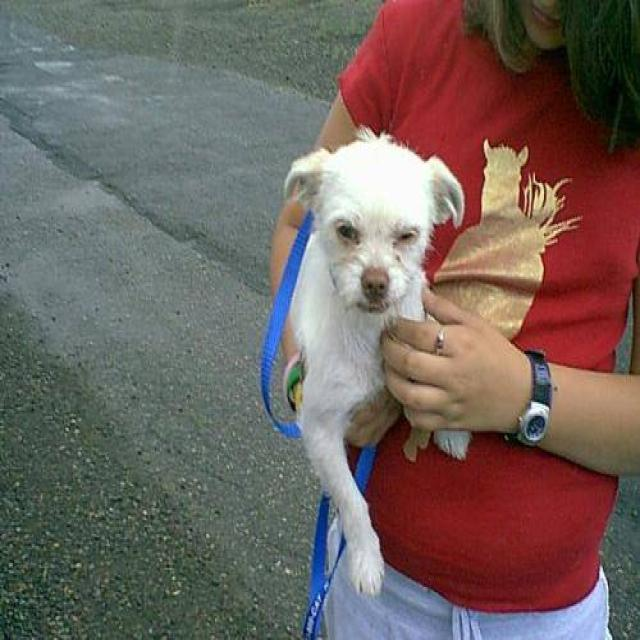adult_dog: (285, 134, 470, 595)
